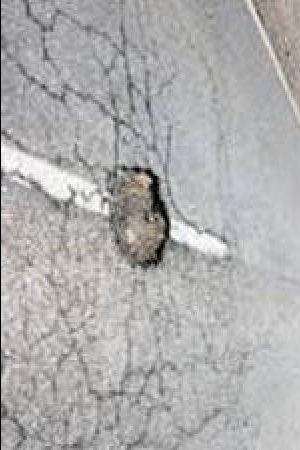pothole: (103, 162, 172, 272)
